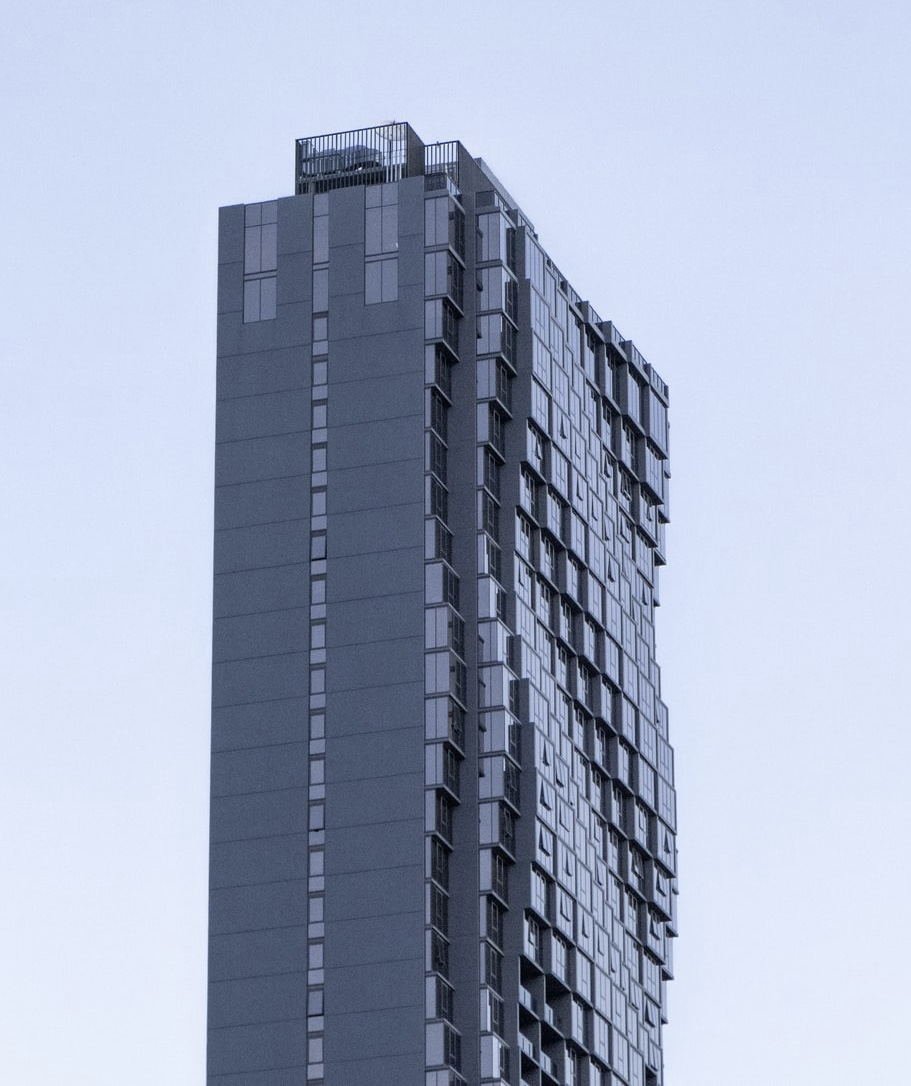Sky Building: (197, 114, 713, 1082)
